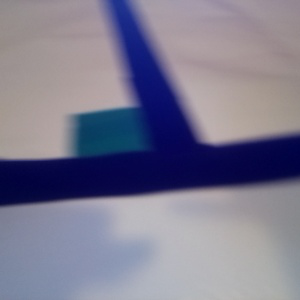top_left: (76, 108, 181, 190)
